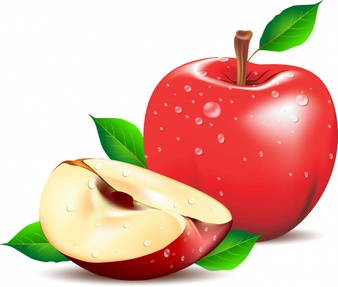apple: (144, 55, 337, 257)
